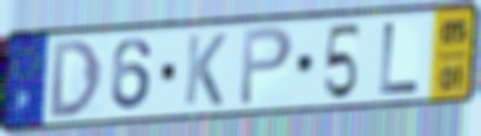5: (321, 21, 362, 101)
6: (111, 37, 154, 113)
D: (49, 37, 104, 122)
K: (181, 31, 229, 109)
L: (376, 20, 423, 98)
P: (237, 23, 296, 109)
